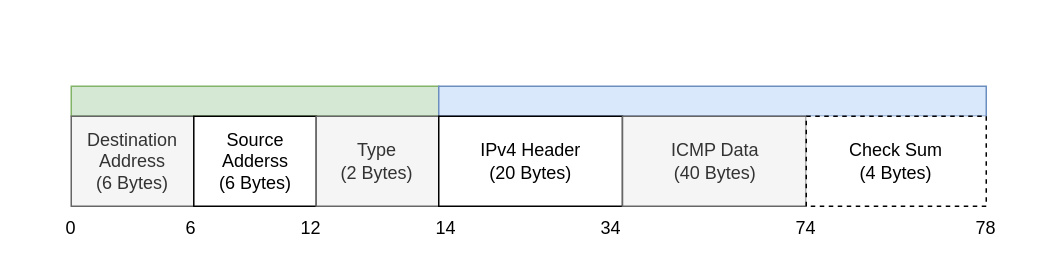
Some shapes in this 1056 by 276 pixel diagram are drawn without their labels. Each missing label, with the centre of its shape:
"Ether Net Header" goes at pixel 254 100.
"Ether Net Payload" goes at pixel 711 100.
